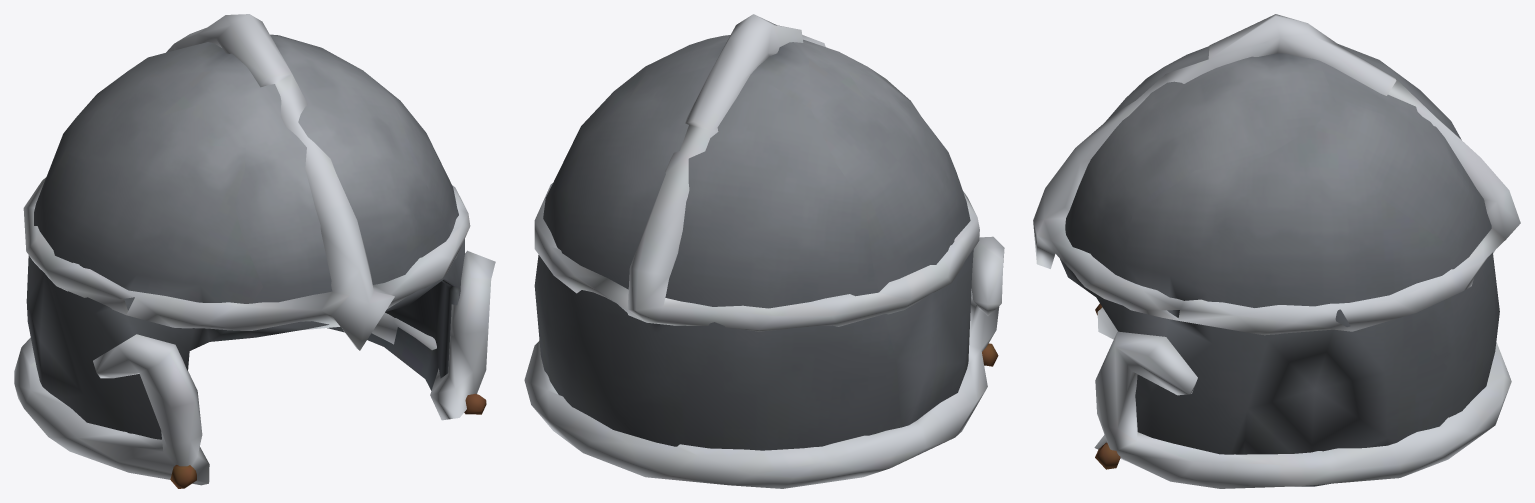
The model's file is steel-helmet.glb.
3 renders of one model, left to right at view 1: azimuth 30°, elevation 25°; view 2: azimuth 150°, elevation 25°; view 3: azimuth 270°, elevation 25°, orthographic.
Visible parts, largest first — view 1: shell; view 2: shell; view 3: shell.
Boxes of the visible parts, bbox=[...] form: shell: bbox=[14, 14, 495, 488]; shell: bbox=[524, 14, 1004, 488]; shell: bbox=[1033, 14, 1520, 488].
Bounding box in the file's own units: 0.4839 × 0.4465 × 0.5092.
Materials: 1 (1 with a texture image).
